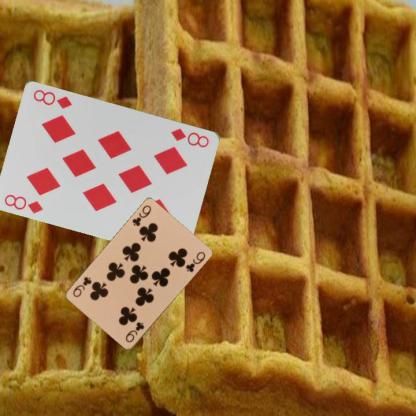8d: (169, 125, 211, 149), (2, 191, 44, 215)
9c: (122, 319, 146, 344), (130, 203, 152, 228)
